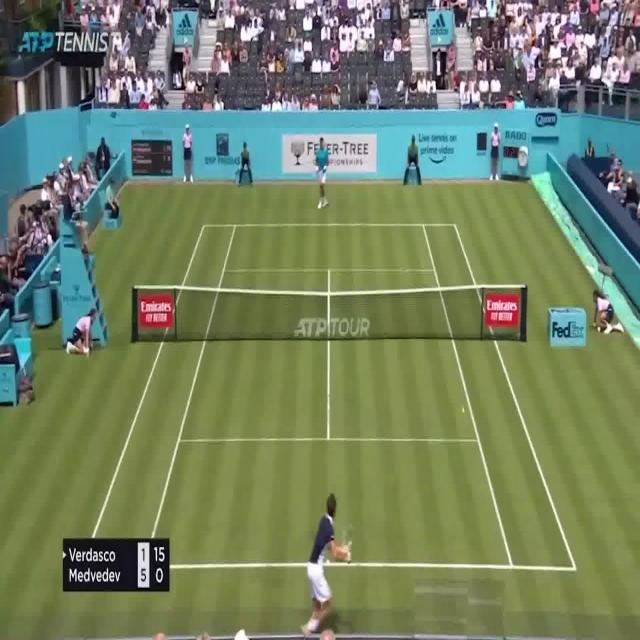bottom-dead-zone: (146, 436, 513, 567)
court: (83, 224, 577, 572)
left-doubles-alley: (84, 225, 236, 564)
left-service-box: (179, 268, 330, 440)
net: (130, 279, 529, 346)
right-doubles-alley: (422, 224, 577, 572)
right-service-box: (328, 270, 479, 442)
top-dead-zone: (224, 225, 436, 271)
